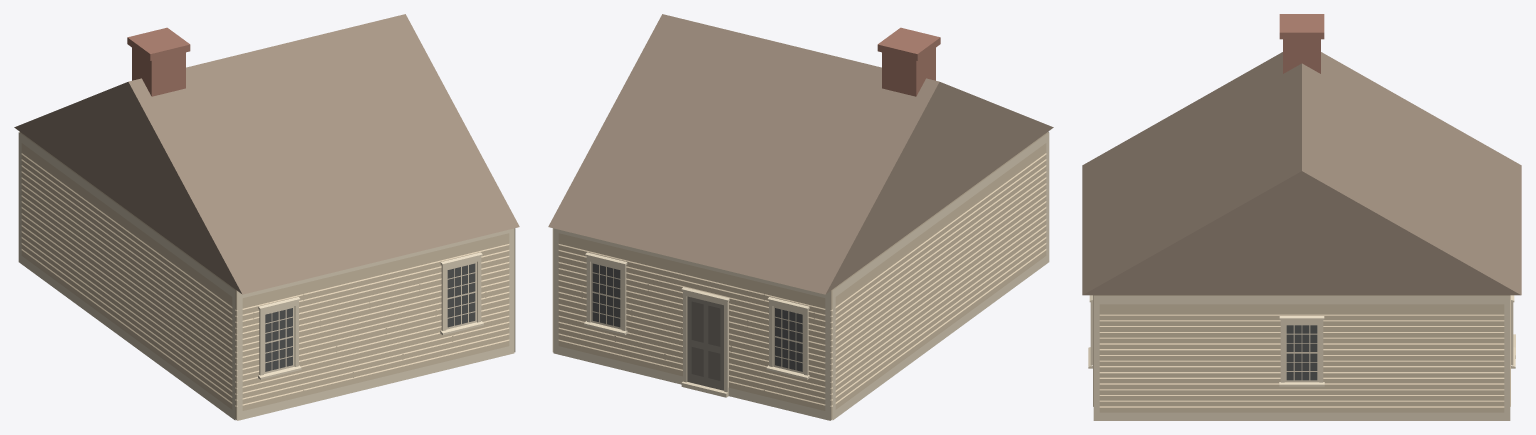
Rendered from recon_1835_north_d5_086__inferred_1835.glb.
The picture shows the model from 3 angles, left to right: view 1: azimuth 30°, elevation 25°; view 2: azimuth 150°, elevation 25°; view 3: azimuth 270°, elevation 25°; orthographic projection. The views are drawn at different scales.
Parts seen in each view (by area): view 1: recon_1835_north_d5_086__inferred_1835; view 2: recon_1835_north_d5_086__inferred_1835; view 3: recon_1835_north_d5_086__inferred_1835.
Boxes of the visible parts, x1,y1,x2,y2 form: recon_1835_north_d5_086__inferred_1835: (14, 14, 519, 420); recon_1835_north_d5_086__inferred_1835: (548, 14, 1053, 420); recon_1835_north_d5_086__inferred_1835: (1082, 14, 1521, 420).
Size of the model in its own units: 6.95 by 6.86 by 9.7.
